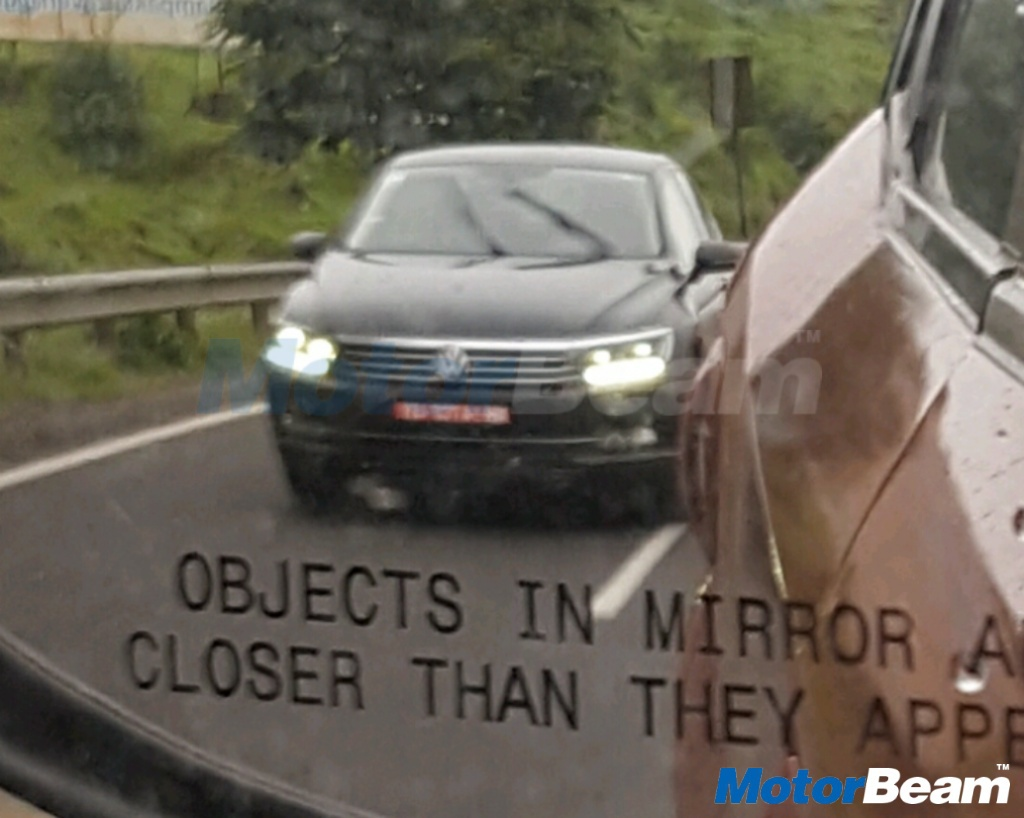plate: (382, 397, 522, 442)
